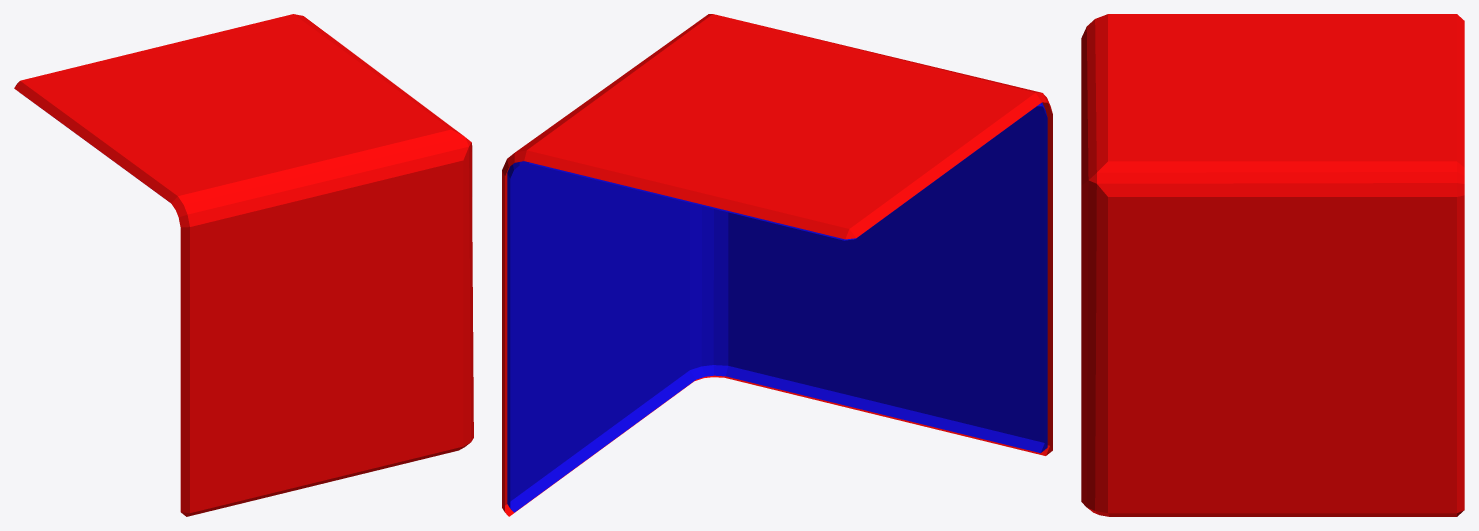
Rendered from frame-corner4.glb.
The picture shows the model from 3 angles, left to right: view 1: azimuth 30°, elevation 25°; view 2: azimuth 150°, elevation 25°; view 3: azimuth 270°, elevation 25°; orthographic projection. The views are drawn at different scales.
Parts seen in each view (by area): view 1: corner.002; view 2: corner.002; view 3: corner.002.
Boxes of the visible parts, x1=… form: corner.002: x1=14, y1=14, x2=473, y2=516; corner.002: x1=502, y1=14, x2=1052, y2=516; corner.002: x1=1081, y1=14, x2=1464, y2=516.
Size of the model in its own units: 1.06 by 1.06 by 1.06.
